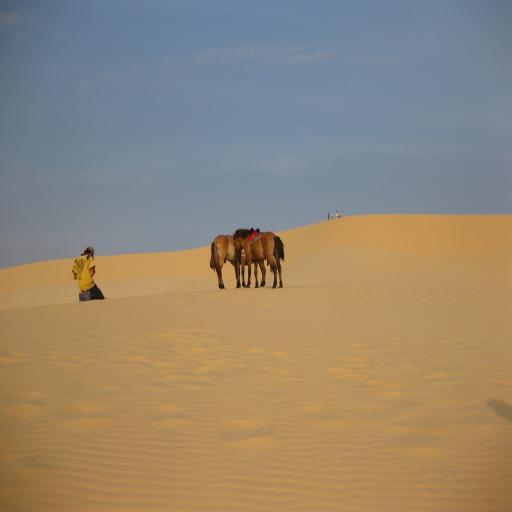horse: (210, 228, 260, 295), (232, 226, 286, 288)
